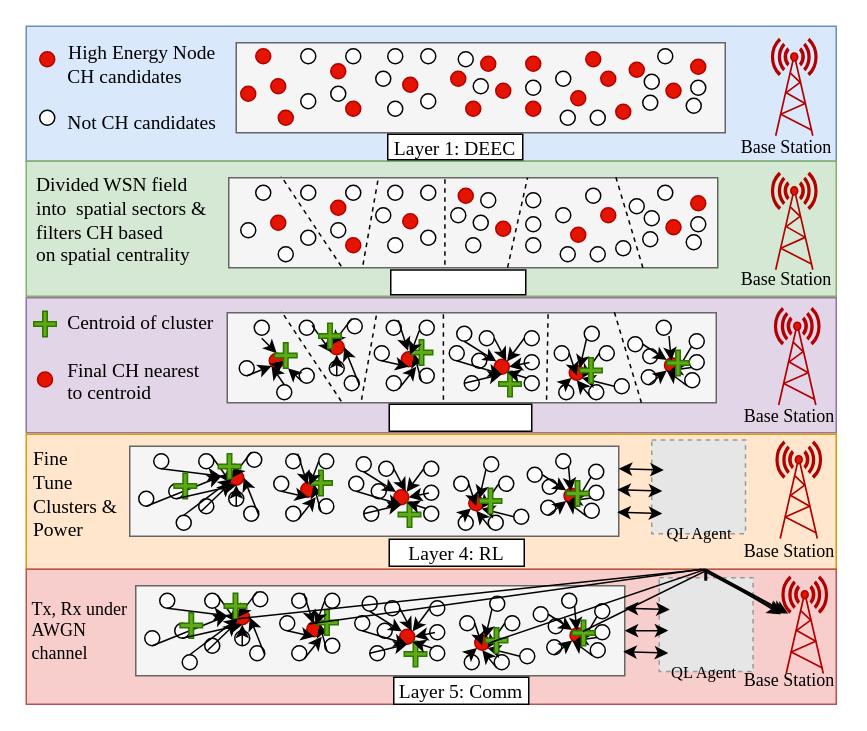
Some shapes in this 867 by 731 pixel diagram are drawn without their labels. Grey dashed boxes stand in for pictures. The shapes that lost their labels are listed below. From the top down, each one's centre as x and y in pixels, then its label:
point 457,281: Layer 2: EEKA
point 460,417: Layer 3: K-Mean
